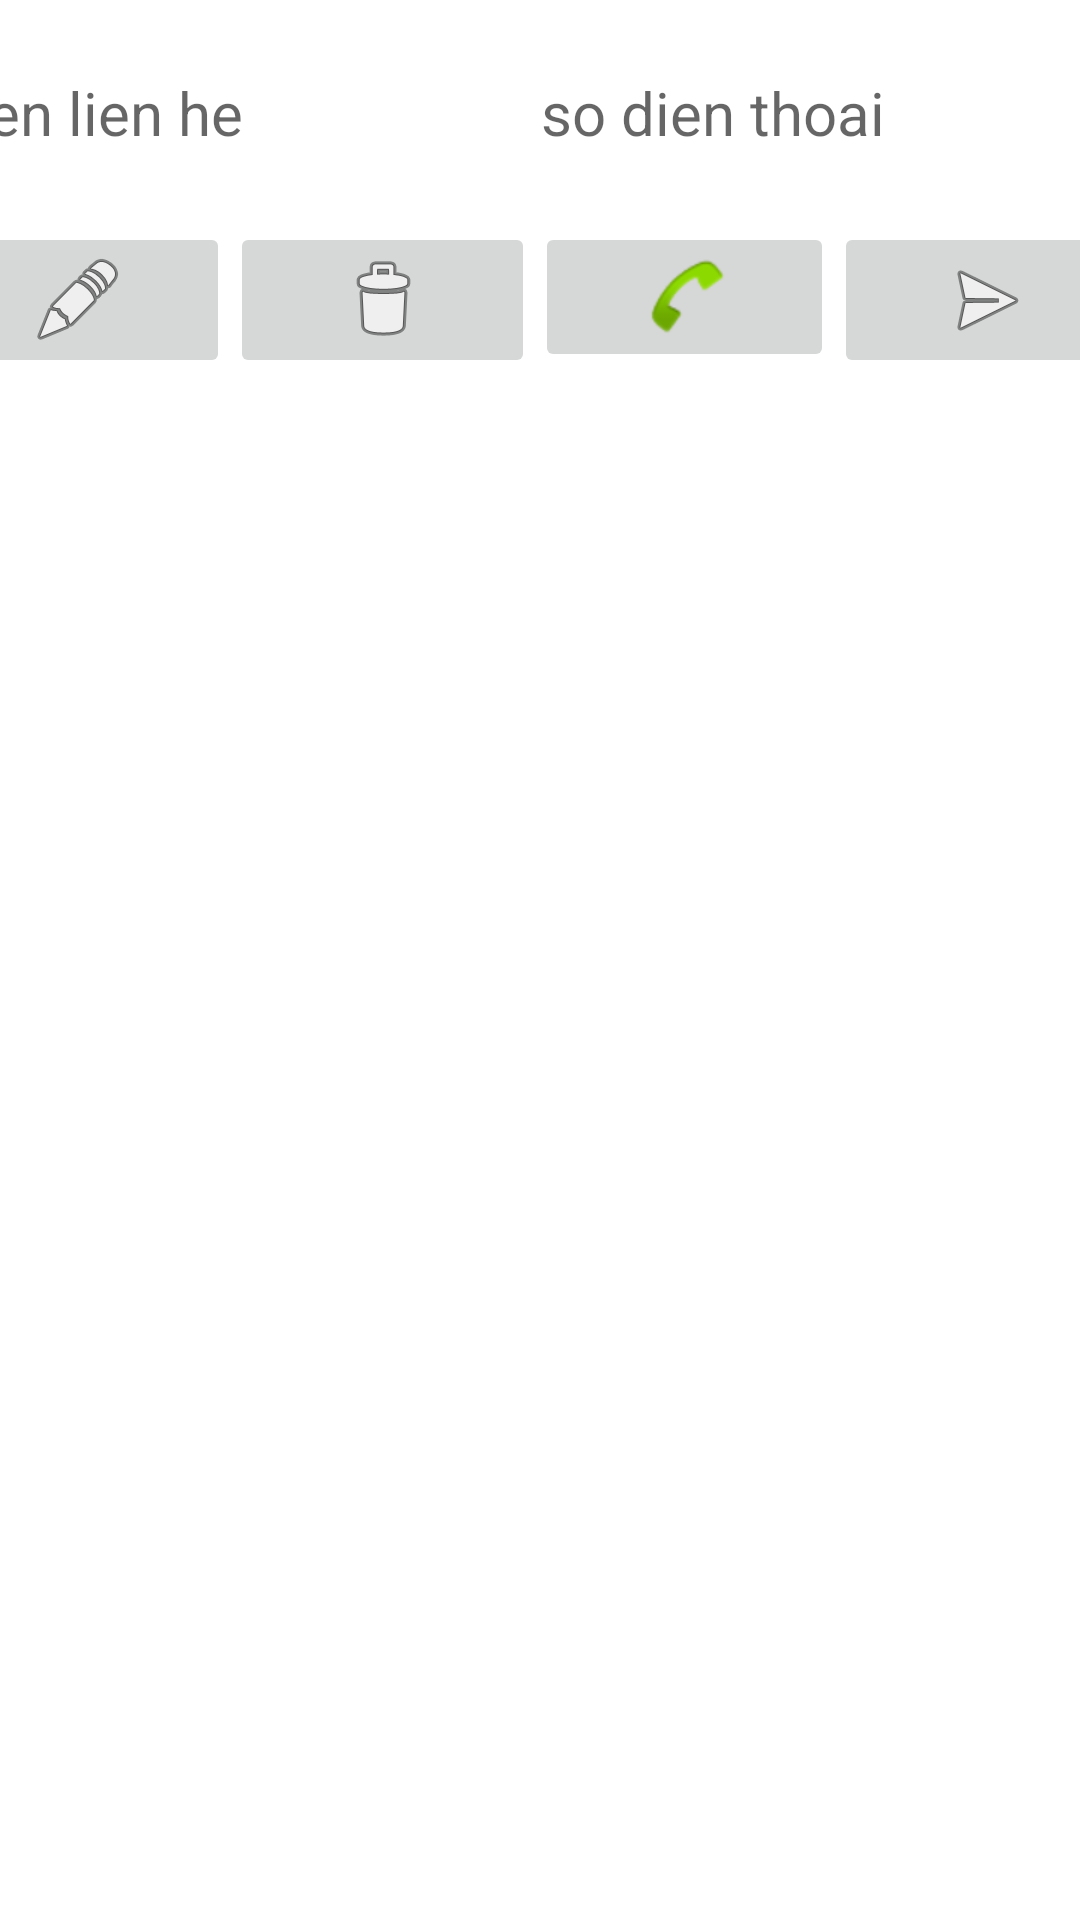

Named icons in this screenshot (1080×1920) and their bounding boxes, region(x1, y1, x2, y2):
delete: region(242, 240, 523, 360)
sym action call: region(547, 240, 822, 354)
